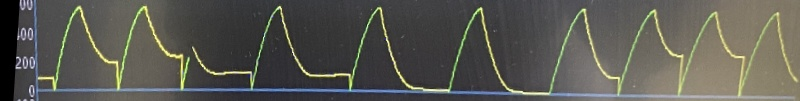leakage: (35, 0, 355, 94), (542, 0, 789, 101)
normal_volume: (354, 0, 549, 96)
